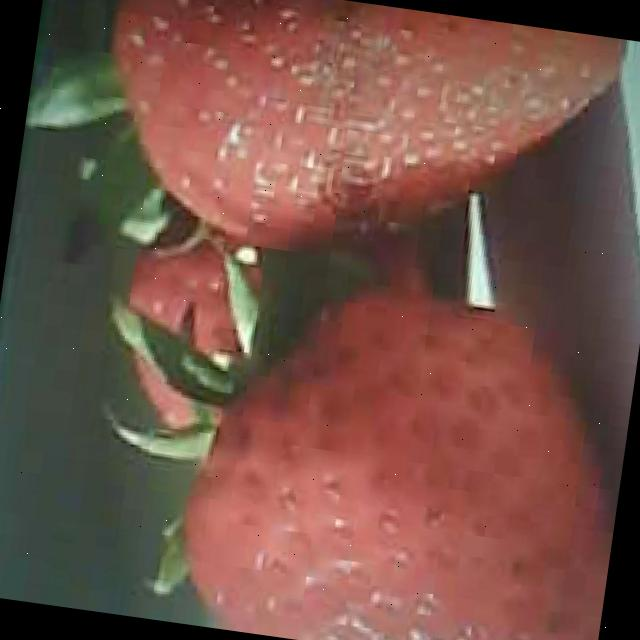strawberry: (168, 269, 640, 640), (118, 0, 623, 292)
